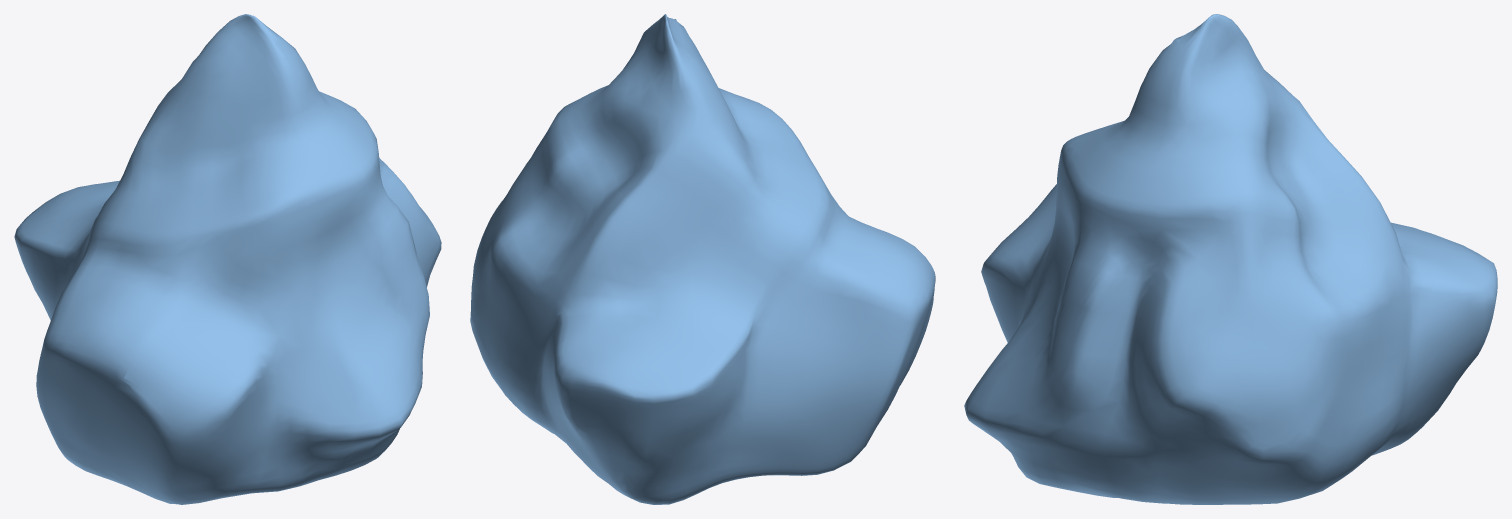
File: Iceburg4.fbx
The picture shows the model from 3 angles, left to right: view 1: azimuth 30°, elevation 25°; view 2: azimuth 150°, elevation 25°; view 3: azimuth 270°, elevation 25°; orthographic projection. The views are drawn at different scales.
Visible parts, largest first — view 1: Retopo_Iceburg5_high; view 2: Retopo_Iceburg5_high; view 3: Retopo_Iceburg5_high.
Boxes of the visible parts, x1,y1,x2,y2 form: Retopo_Iceburg5_high: (14, 14, 441, 504); Retopo_Iceburg5_high: (470, 14, 935, 504); Retopo_Iceburg5_high: (964, 14, 1497, 504).
Bounding box in the file's own units: 229 × 235 × 233.
